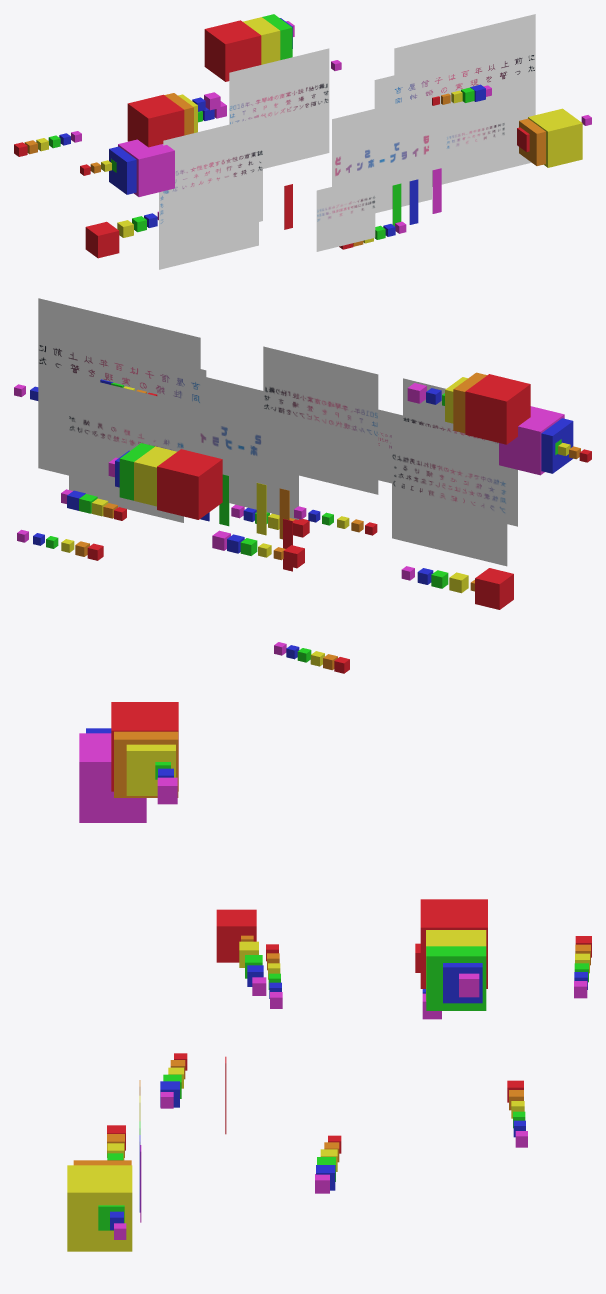
The model's file is RainbowFish.gltf.
3 views of the same model, one above another, from view 1: azimuth 30°, elevation 25°; view 2: azimuth 150°, elevation 25°; view 3: azimuth 270°, elevation 25° (orthographic). The views are drawn at different scales.
Visible parts, largest first — view 1: Plane.005, Plane.008, Plane.004, Plane, Plane.006, Plane.007, Plane.002, Cube.059, Cube.011, Cube.050, Cube.063, Cube.071 (+10 smaller); view 2: Plane.005, Plane.004, Plane.002, Plane.003, Plane, Cube.059, Cube.011, Cube.050, Plane.008, Cube.057, Cube.071, Cube.049 (+4 smaller); view 3: Cube.063, Cube.050, Cube.059, Cube.054, Cube.011, Cube.009, Cube.010, Cube.071, Cube.055, Cube.057.
Boxes of the visible parts, x1,y1,x2,y2 form: Plane.005: (394,14,535,186); Plane.008: (163,116,262,245); Plane.004: (229,48,329,168); Plane: (332,95,431,213); Plane.006: (446,104,505,179); Plane.007: (316,176,375,251); Plane.002: (159,191,258,269); Cube.059: (204,20,261,81); Cube.011: (127,94,184,147); Cube.050: (118,139,174,196); Cube.063: (528,108,582,167); Cube.071: (85,221,119,258); Plane.005: (38,298,200,475); Plane.004: (263,346,378,494); Plane.002: (392,418,507,566); Plane.003: (69,375,183,522); Plane: (200,376,298,519); Cube.059: (157,449,222,519); Cube.011: (465,374,530,444); Cube.050: (499,406,564,475); Plane.008: (403,378,517,526); Cube.057: (134,446,176,506); Cube.071: (475,568,513,609); Cube.049: (541,418,573,473); Cube.063: (67,1165,132,1251); Cube.050: (79,733,146,822); Cube.059: (420,899,487,988); Cube.054: (426,946,486,1010); Cube.011: (111,702,178,791); Cube.009: (126,744,175,795); Cube.010: (114,731,178,797); Cube.071: (216,909,256,962); Cube.055: (443,963,482,1003); Cube.057: (426,930,486,1000).
Bounding box in the file's own units: 7.63 × 2.61 × 4.68.
Materials: 87 (9 with a texture image).
